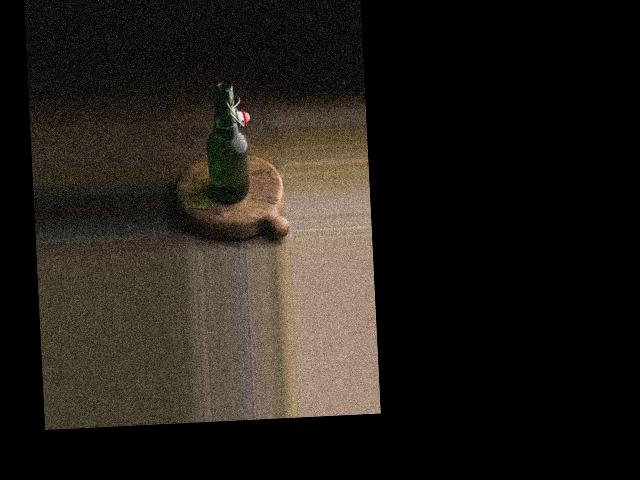beer: (205, 79, 250, 202)
